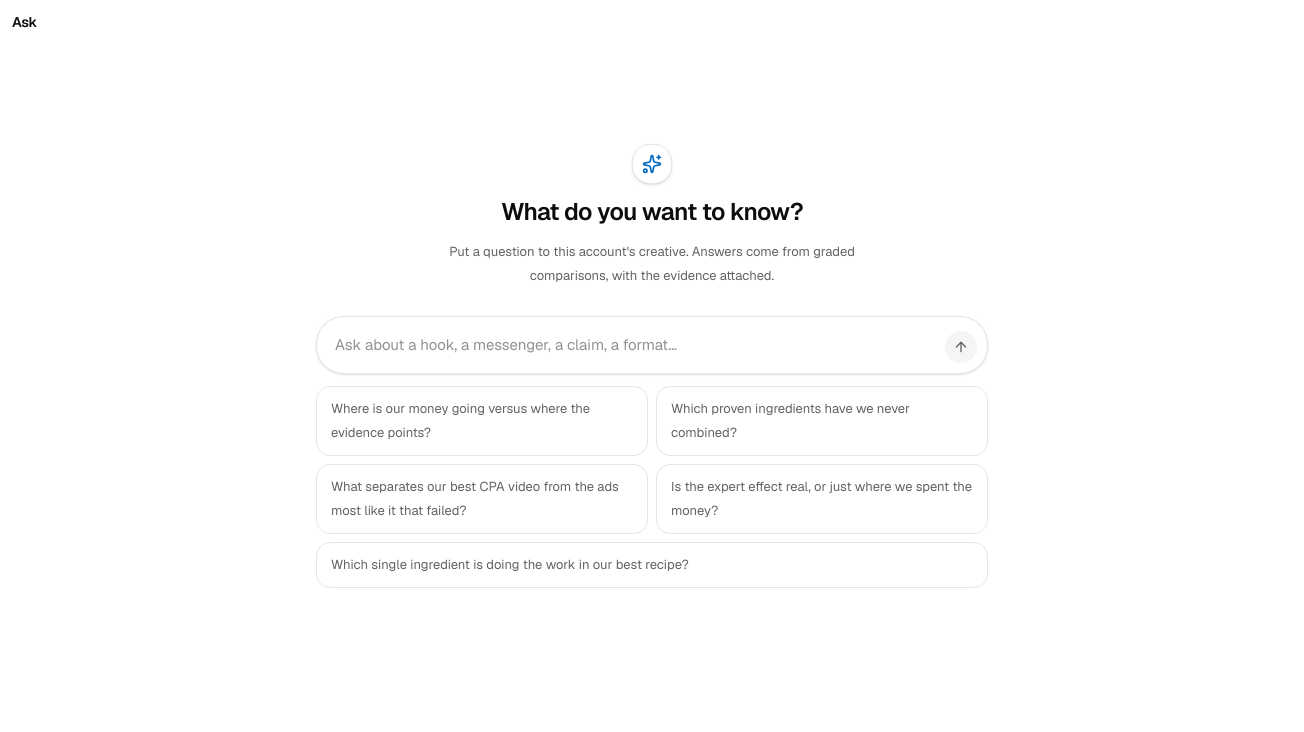
Test: AccountReadAsk › keeps earlier exchanges on screen when another question is asked
This screenshot has width=1304, height=732.
Type "do fear registers convert?" into the text box named "ask this account a question". click: (632, 345)
box: 327,325 -> 937,365
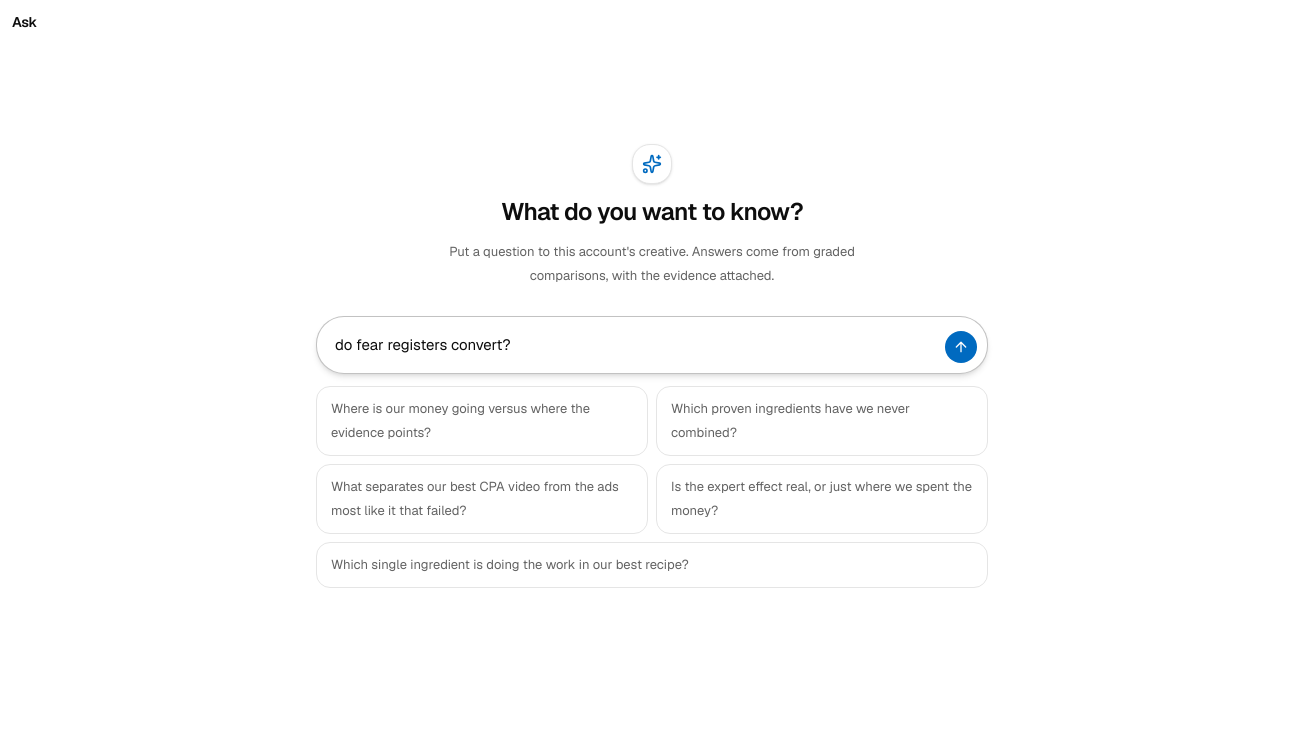
Click the button named "Ask". click: (961, 347)
box: 945,331 -> 977,363
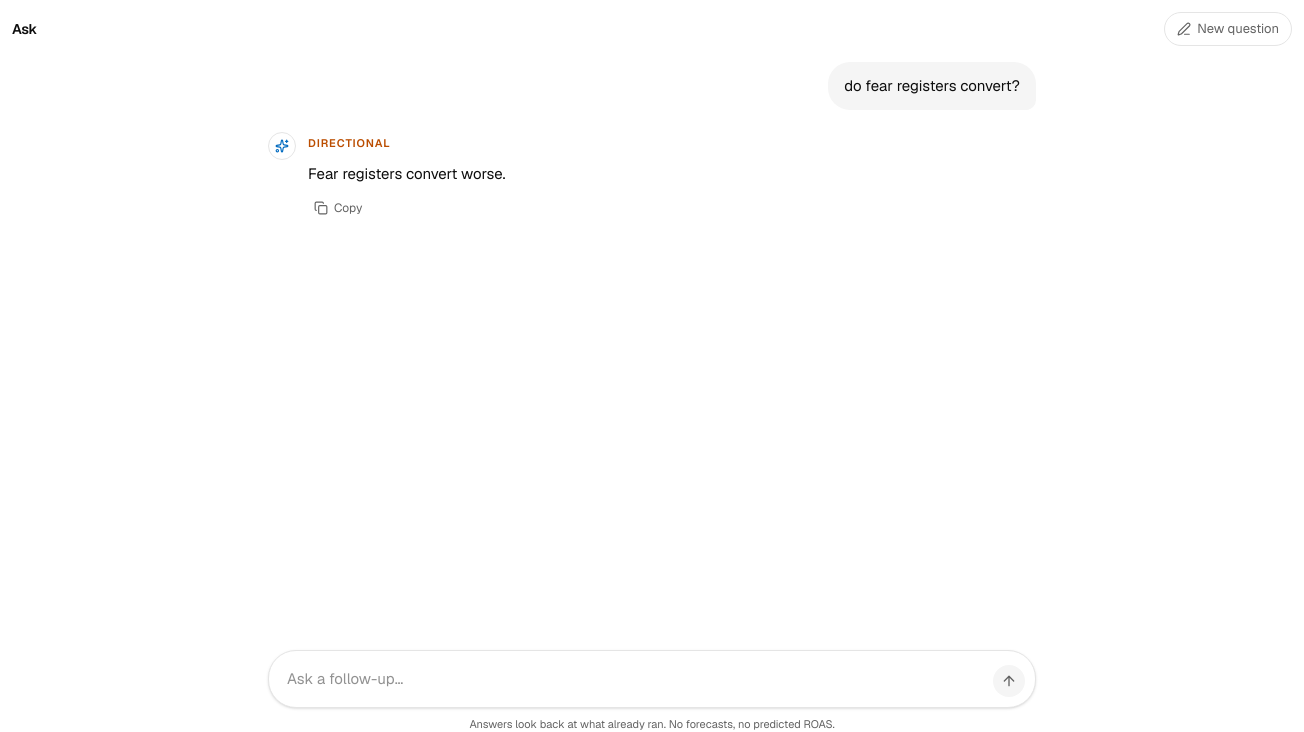
Check: the text "Fear registers convert worse." is shown, box 308,164 -> 506,182
Type "which messenger for over-50s?" into the text box named "ask this account a question". click: (632, 678)
box: 279,658 -> 985,698
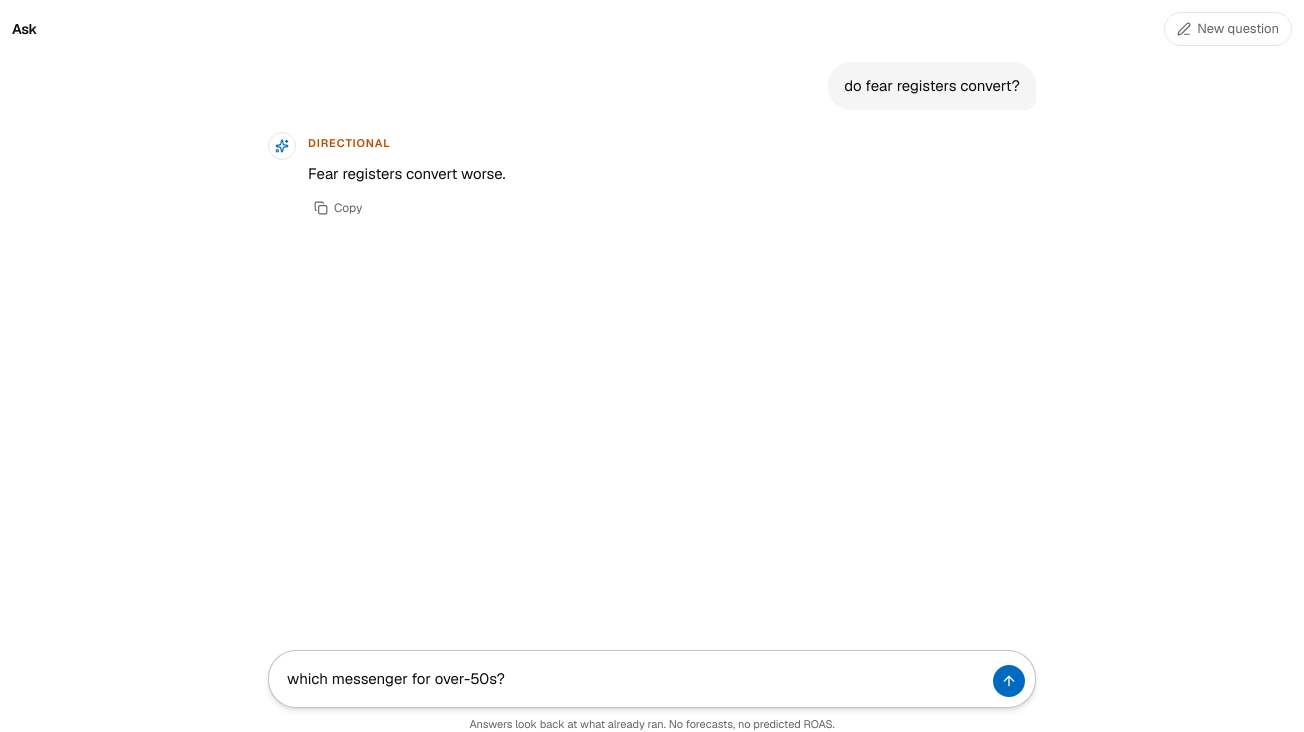
Click the button named "Ask". click: (1009, 680)
box: 993,664 -> 1025,696
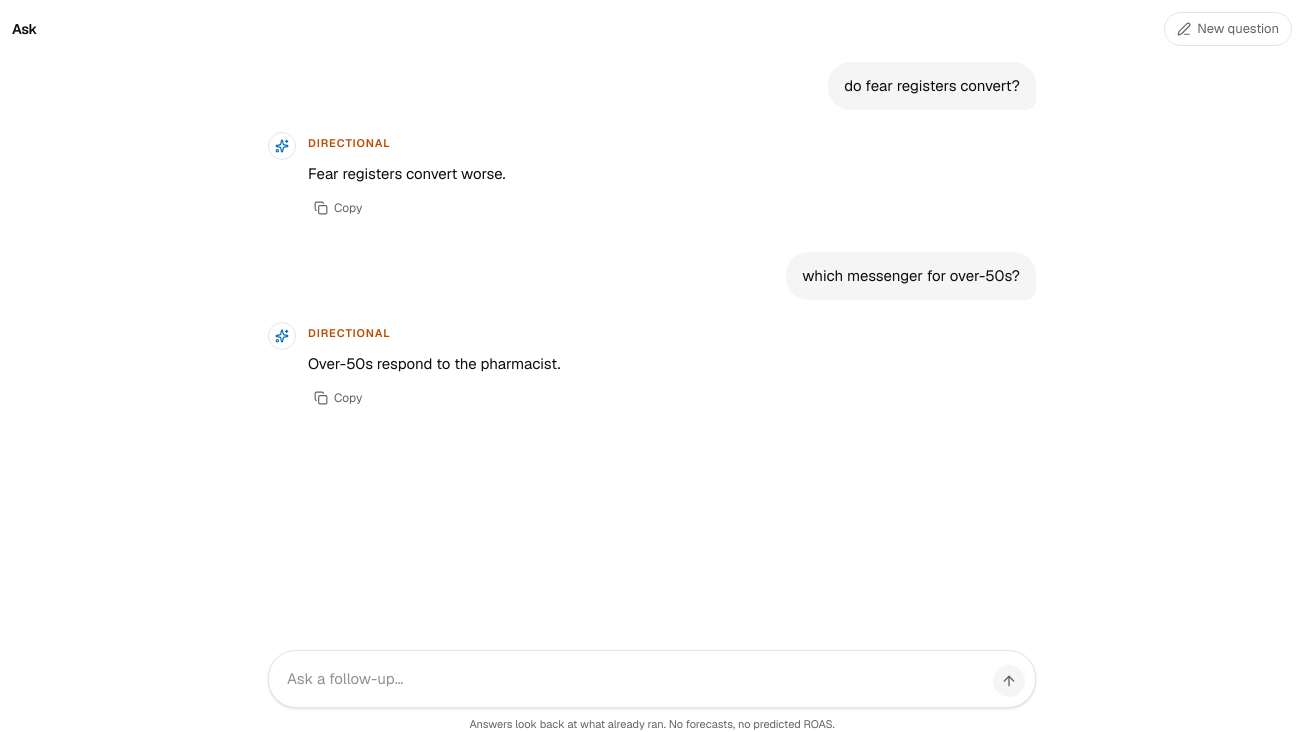
Check: the text "do fear registers convert?" is shown, box 828,62 -> 1036,110
Check: the text "Fear registers convert worse." is shown, box 308,164 -> 506,182
Check: the text "Over-50s respond to the pharmacist." is shown, box 308,354 -> 560,372
